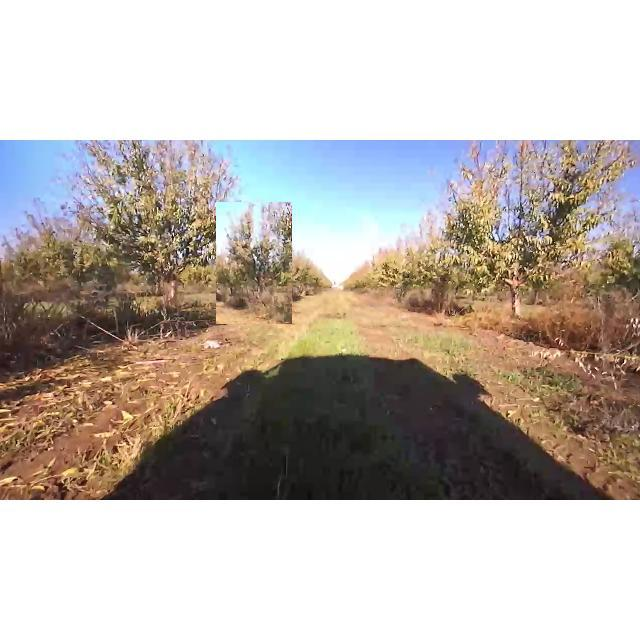direk: (460, 140, 636, 326), (76, 142, 244, 314), (216, 202, 292, 324), (406, 212, 478, 312)
